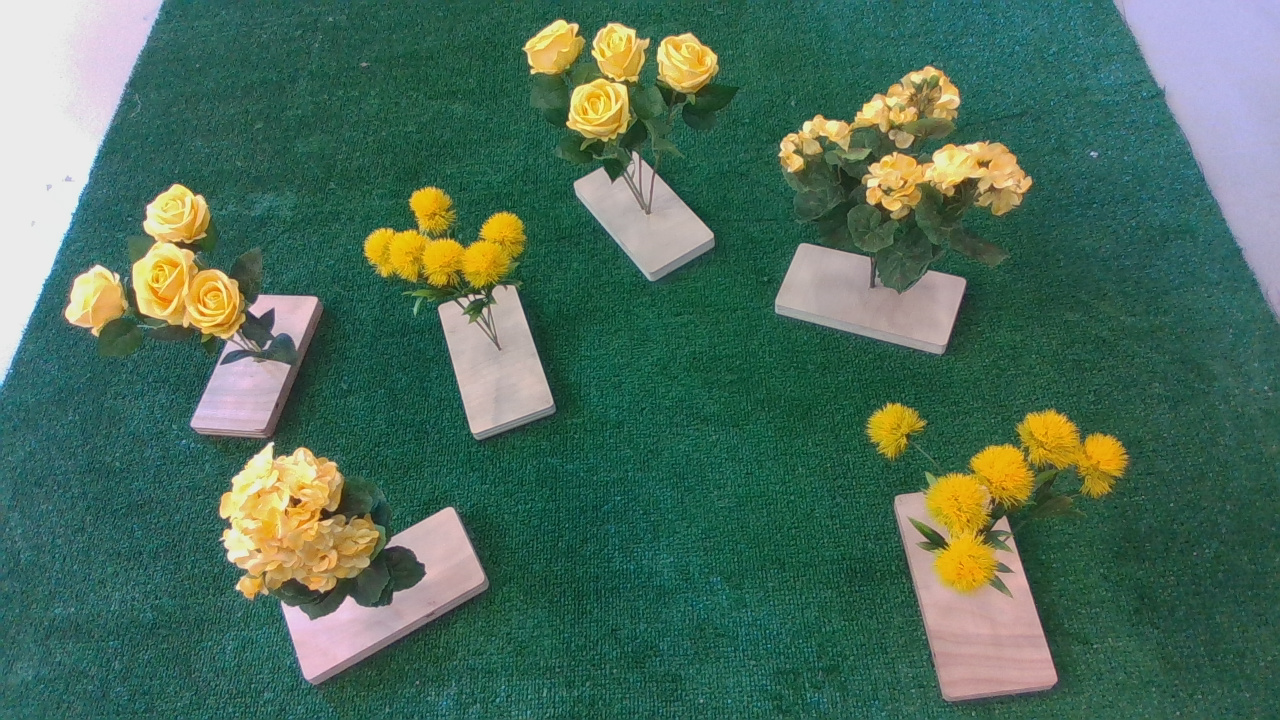dandelion: (861, 400, 1138, 604), (358, 186, 543, 310)
geranium: (781, 70, 1071, 257), (215, 443, 434, 614)
rose: (58, 181, 326, 377), (521, 13, 744, 179)
